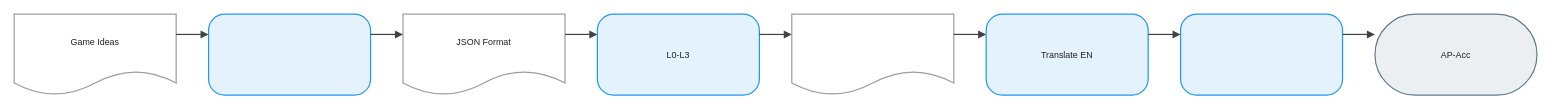
Some shapes in this 1552 by 110 pixel diagram are drawn without their labels. The centre of each missing label's shape, as x and y in pixels:
"Auto Check" belongs at point 1261,54.
"Exemplars" belongs at point 872,54.
"Rule Tasks" belongs at point 289,54.
